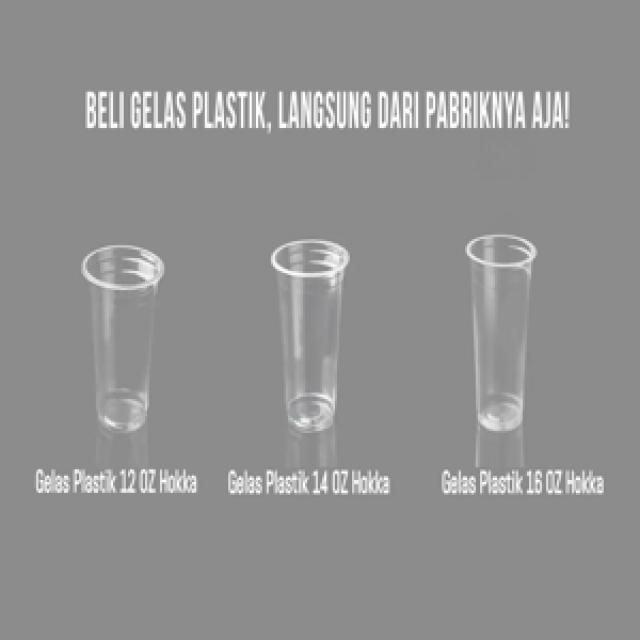plastic cup: (76, 241, 170, 440), (267, 235, 352, 440), (461, 232, 540, 438)
